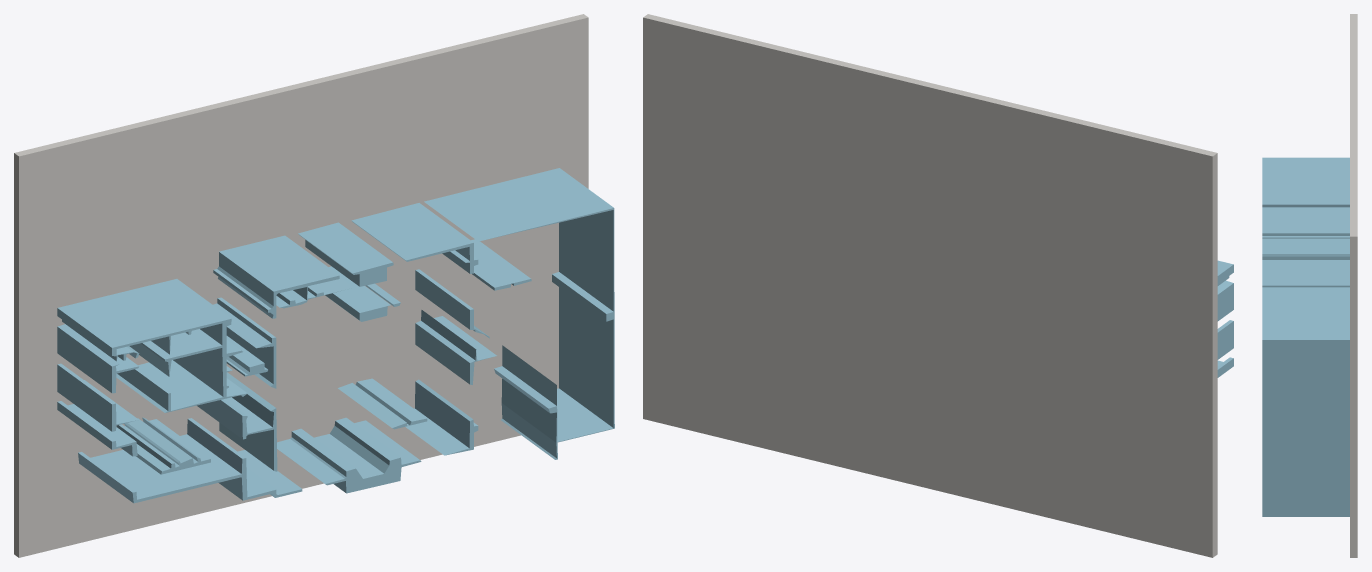
3 views of the same model, side by side, from view 1: azimuth 30°, elevation 25°; view 2: azimuth 150°, elevation 25°; view 3: azimuth 270°, elevation 25° (orthographic). The views are drawn at different scales.
Visible parts, largest first — view 1: world; view 2: world; view 3: world.
Boxes of the visible parts, x1,y1,x2,y2 form: world: (14, 14, 614, 557); world: (643, 14, 1233, 557); world: (1262, 14, 1357, 557).
Bounding box in the file's own units: 10.23 × 6.89 × 1.85.
